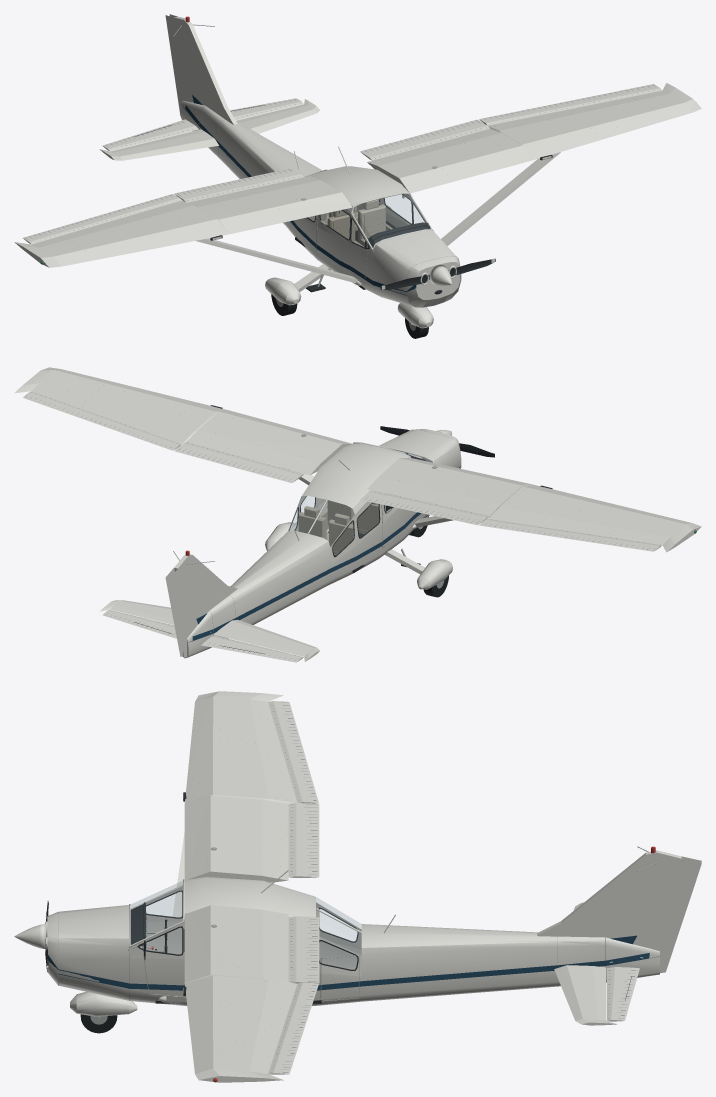
Rendered from c172-molen-skyhawk.glb.
3 renders of one model, top to bottom at view 1: azimuth 30°, elevation 25°; view 2: azimuth 150°, elevation 25°; view 3: azimuth 270°, elevation 25°, orthographic. The views are drawn at different scales.
Visible parts, largest first — view 1: Skyhawk-shell-Skyhawk-white, Skyhawk-shell-Skyhawk-glazing, Skyhawk-cabin-Skyhawk-seats, flap-1-Skyhawk-white, aileron-1-Skyhawk-white, flap--1-Skyhawk-white, aileron--1-Skyhawk-white, rudder-Skyhawk-white, Skyhawk-elevator--1-Skyhawk-white, Skyhawk-shell-Skyhawk-navy, Skyhawk-elevator-1-Skyhawk-white, propeller-Skyhawk-trim (+3 smaller); view 2: Skyhawk-shell-Skyhawk-white, Skyhawk-shell-Skyhawk-glazing, Skyhawk-cabin-Skyhawk-seats, flap-1-Skyhawk-white, aileron-1-Skyhawk-white, flap--1-Skyhawk-white, aileron--1-Skyhawk-white, rudder-Skyhawk-white, Skyhawk-shell-Skyhawk-navy, Skyhawk-elevator--1-Skyhawk-white, Skyhawk-elevator-1-Skyhawk-white; view 3: Skyhawk-shell-Skyhawk-white, Skyhawk-shell-Skyhawk-glazing, rudder-Skyhawk-white, Skyhawk-shell-Skyhawk-navy, flap--1-Skyhawk-white, aileron--1-Skyhawk-white, flap-1-Skyhawk-white, aileron-1-Skyhawk-white, Skyhawk-elevator-1-Skyhawk-white, Skyhawk-shell-Skyhawk-trim, Skyhawk-shell-Skyhawk-alloy, Skyhawk-cabin-Skyhawk-trim.
Boxes of the visible parts, x1,y1,x2,y2 form: Skyhawk-shell-Skyhawk-white: [14, 16, 701, 328]; Skyhawk-shell-Skyhawk-glazing: [305, 176, 431, 247]; Skyhawk-cabin-Skyhawk-seats: [308, 199, 392, 247]; flap-1-Skyhawk-white: [360, 119, 489, 160]; aileron-1-Skyhawk-white: [479, 84, 662, 125]; flap--1-Skyhawk-white: [174, 168, 303, 202]; aileron--1-Skyhawk-white: [23, 194, 181, 244]; rudder-Skyhawk-white: [165, 14, 191, 116]; Skyhawk-elevator--1-Skyhawk-white: [102, 119, 198, 150]; Skyhawk-shell-Skyhawk-navy: [182, 95, 461, 295]; Skyhawk-elevator-1-Skyhawk-white: [230, 98, 303, 120]; propeller-Skyhawk-trim: [380, 258, 495, 289]; Skyhawk-shell-Skyhawk-white: [14, 367, 701, 661]; Skyhawk-shell-Skyhawk-glazing: [288, 451, 431, 554]; Skyhawk-cabin-Skyhawk-seats: [298, 500, 385, 555]; flap-1-Skyhawk-white: [174, 442, 303, 482]; aileron-1-Skyhawk-white: [23, 391, 181, 450]; flap--1-Skyhawk-white: [360, 490, 489, 525]; aileron--1-Skyhawk-white: [479, 519, 661, 551]; rudder-Skyhawk-white: [165, 568, 195, 657]; Skyhawk-shell-Skyhawk-navy: [188, 453, 460, 642]; Skyhawk-elevator--1-Skyhawk-white: [201, 635, 303, 662]; Skyhawk-elevator-1-Skyhawk-white: [102, 610, 176, 638]; Skyhawk-shell-Skyhawk-white: [45, 691, 681, 1082]; Skyhawk-shell-Skyhawk-glazing: [131, 881, 361, 969]; rudder-Skyhawk-white: [637, 856, 701, 973]; Skyhawk-shell-Skyhawk-navy: [48, 935, 659, 990]; flap--1-Skyhawk-white: [288, 803, 319, 877]; aileron--1-Skyhawk-white: [268, 701, 318, 803]; flap-1-Skyhawk-white: [288, 916, 319, 983]; aileron-1-Skyhawk-white: [268, 982, 318, 1074]; Skyhawk-elevator-1-Skyhawk-white: [606, 967, 639, 1021]; Skyhawk-shell-Skyhawk-trim: [137, 792, 358, 995]; Skyhawk-shell-Skyhawk-alloy: [58, 846, 662, 1024]; Skyhawk-cabin-Skyhawk-trim: [128, 902, 321, 1003].
Size of the model in its own units: 11.02 by 2.43 by 8.28.
29 materials, 9 textured.
